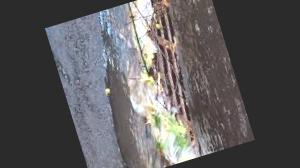Blocked drain: (83, 0, 242, 168)
